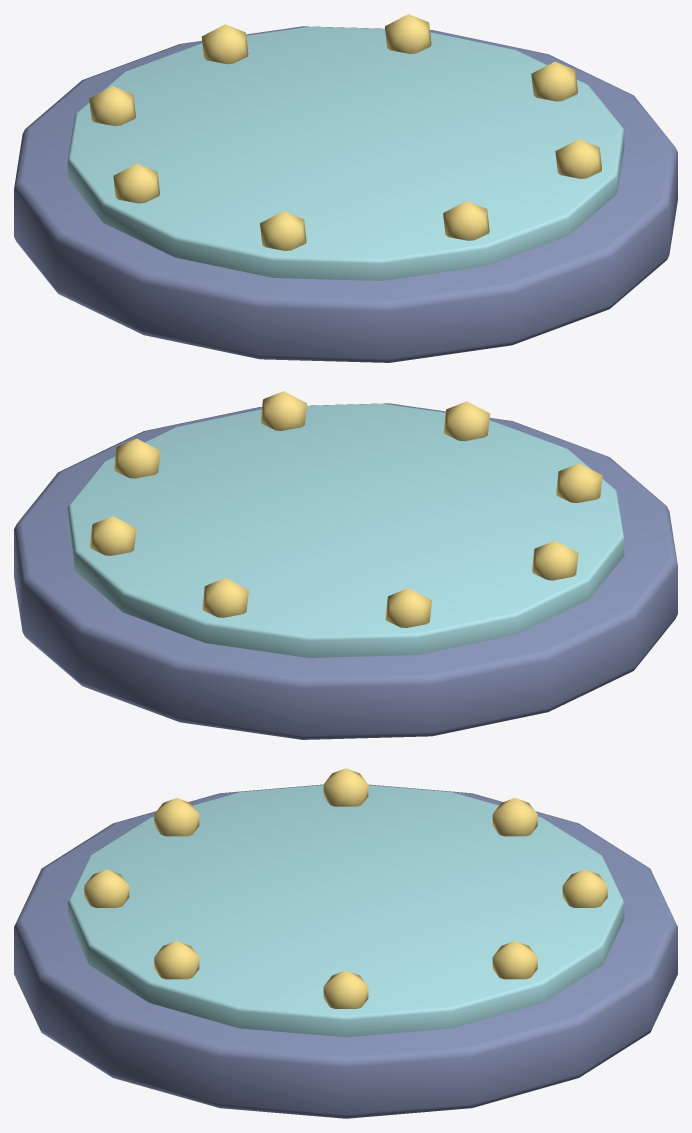
Rendered from crystal_pedestal.glb.
The picture shows the model from 3 angles, top to bottom: view 1: azimuth 30°, elevation 25°; view 2: azimuth 150°, elevation 25°; view 3: azimuth 270°, elevation 25°; orthographic projection.
Parts seen in each view (by area): view 1: Trim_Detail.002, Tint_Surface.002, Fixed_Detail.007; view 2: Trim_Detail.002, Tint_Surface.002, Fixed_Detail.007; view 3: Trim_Detail.002, Tint_Surface.002, Fixed_Detail.007.
Part boxes in pixels (x1,y1,x2,y2): Trim_Detail.002: [67, 26, 624, 280]; Tint_Surface.002: [14, 26, 677, 362]; Fixed_Detail.007: [89, 14, 601, 250]; Trim_Detail.002: [67, 403, 624, 657]; Tint_Surface.002: [14, 403, 677, 739]; Fixed_Detail.007: [90, 391, 602, 627]; Trim_Detail.002: [67, 785, 624, 1037]; Tint_Surface.002: [14, 784, 677, 1118]; Fixed_Detail.007: [84, 768, 607, 1008].
Size of the model in its own units: 6.8 by 1.27 by 6.8.
